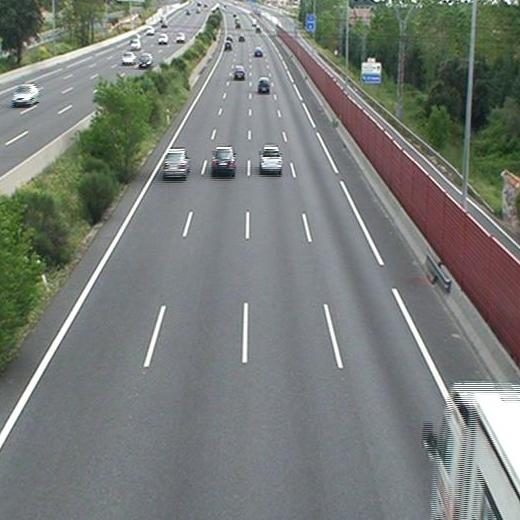car: (163, 150, 190, 176), (259, 146, 282, 170), (213, 147, 234, 171), (258, 79, 271, 92), (234, 66, 245, 77), (254, 47, 262, 56)
